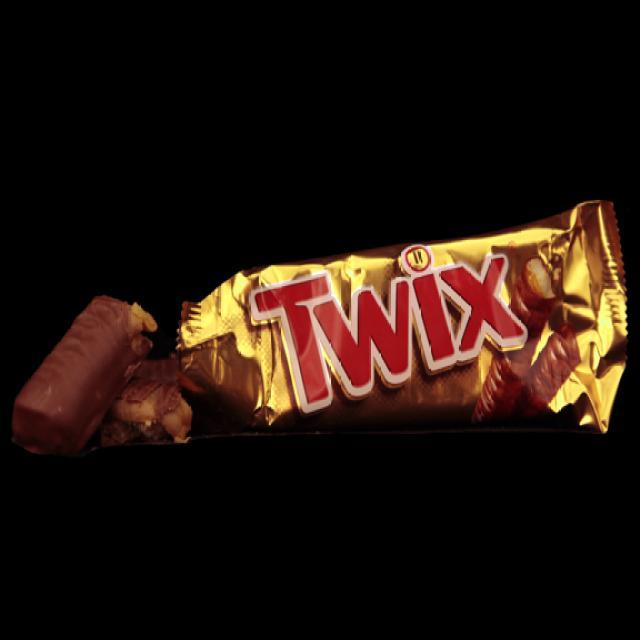Chocolate bar: (184, 197, 628, 435)
Chocolate bar packaged: (11, 284, 157, 460)
